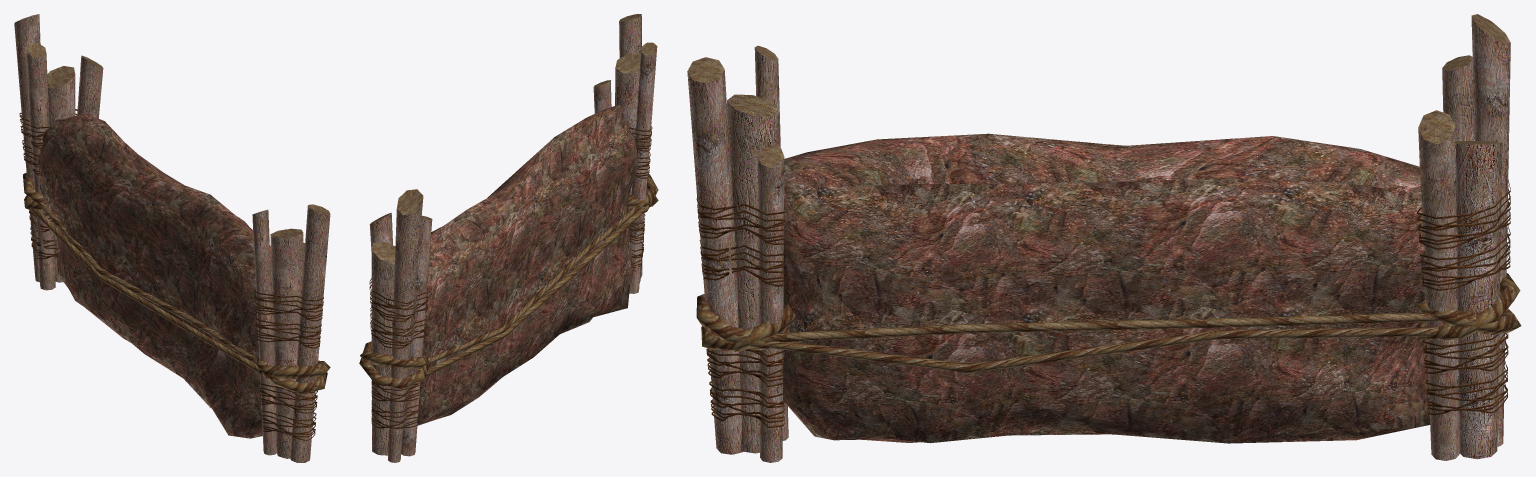
File: thm_dath_night_sister_fence_s01_l0.fbx
3 renders of one model, left to right at view 1: azimuth 30°, elevation 25°; view 2: azimuth 150°, elevation 25°; view 3: azimuth 270°, elevation 25°, orthographic. The views are drawn at different scales.
Visible parts, largest first — view 1: mesh_node; view 2: mesh_node; view 3: mesh_node.
Boxes of the visible parts, left/top/right/bottom form: mesh_node: left=14, top=14, right=330, bottom=462; mesh_node: left=359, top=14, right=658, bottom=462; mesh_node: left=687, top=14, right=1521, bottom=462.
Size of the model in its own units: 1.37 by 4.92 by 8.93.
